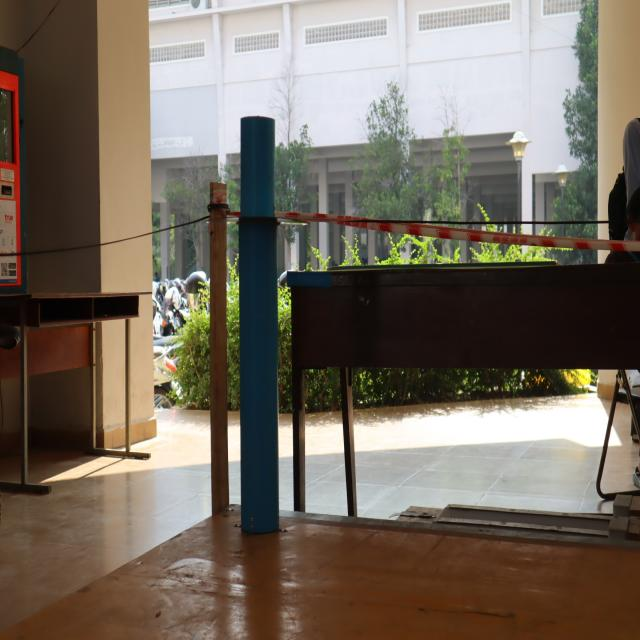pole: (215, 104, 302, 317)
